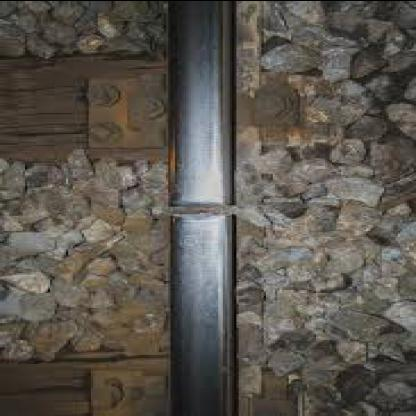Defective: (111, 18, 307, 410)
